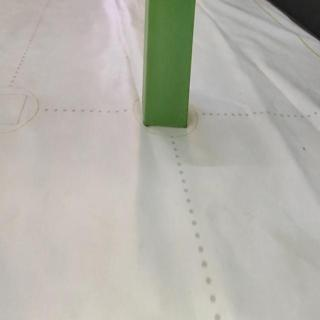greenbox: (143, 0, 197, 128)
